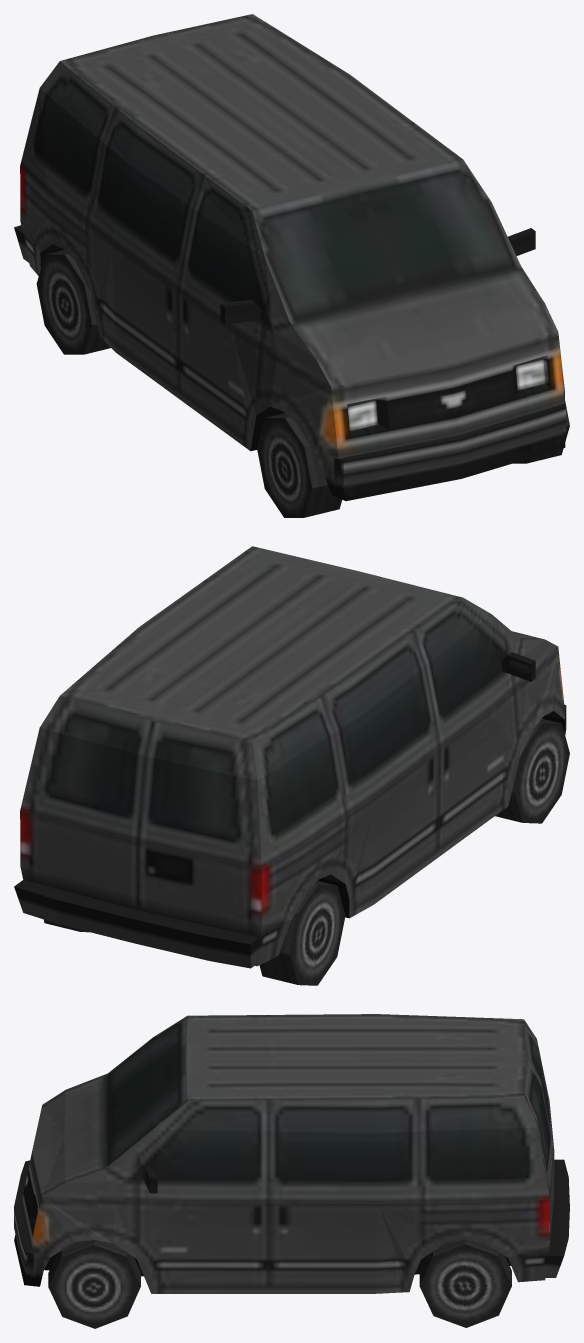
The model's file is car4_grey.glb.
3 views of the same model, one above another, from view 1: azimuth 30°, elevation 25°; view 2: azimuth 150°, elevation 25°; view 3: azimuth 270°, elevation 25° (orthographic). The views are drawn at different scales.
Parts seen in each view (by area): view 1: Car4; view 2: Car4; view 3: Car4.
Part boxes in pixels (x1=…): Car4: x1=14, y1=14, x2=569, y2=517; Car4: x1=14, y1=546, x2=569, y2=985; Car4: x1=14, y1=1014, x2=569, y2=1328.
Size of the model in its own units: 3.4 by 2.74 by 6.3.
1 material, 1 textured.
